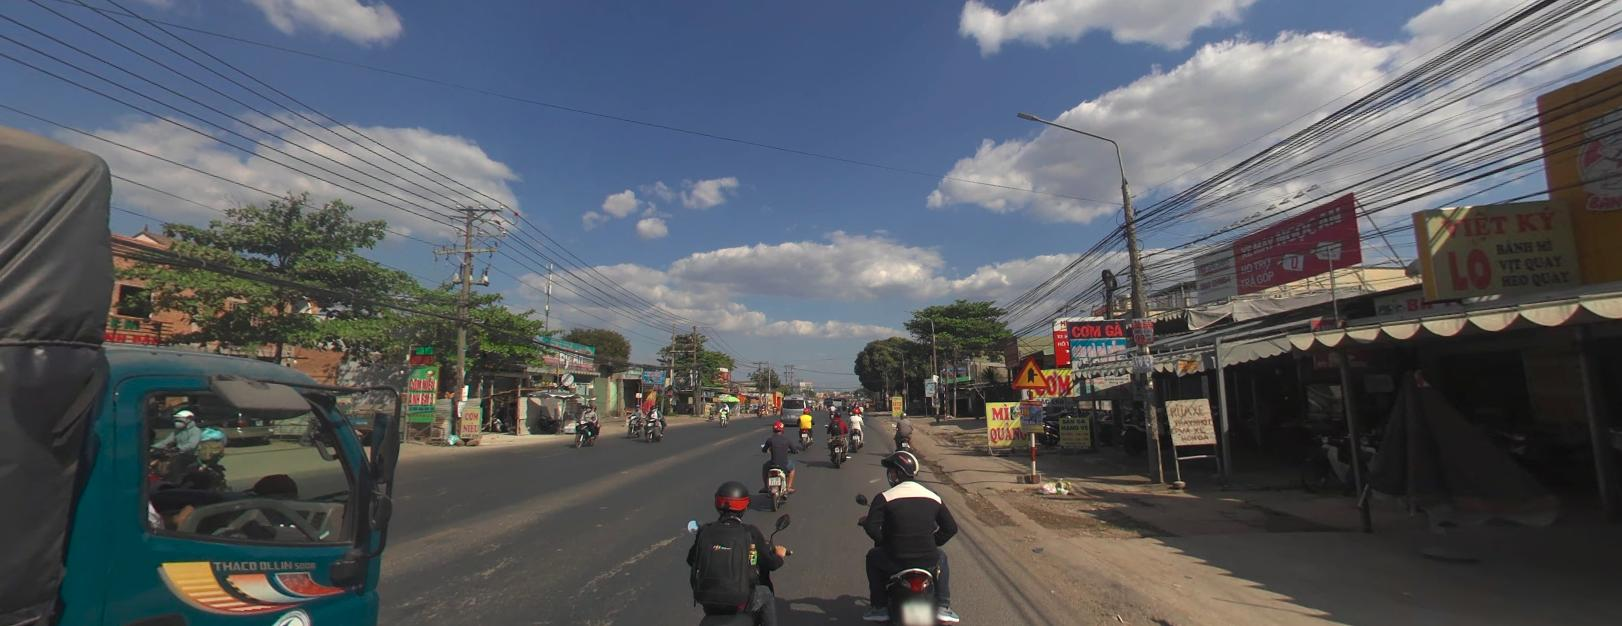Nguy hiem: (1011, 353, 1050, 387)
